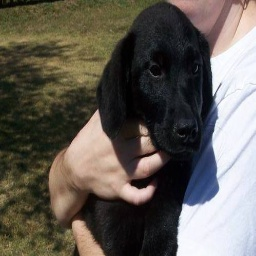dog: (73, 3, 213, 256)
